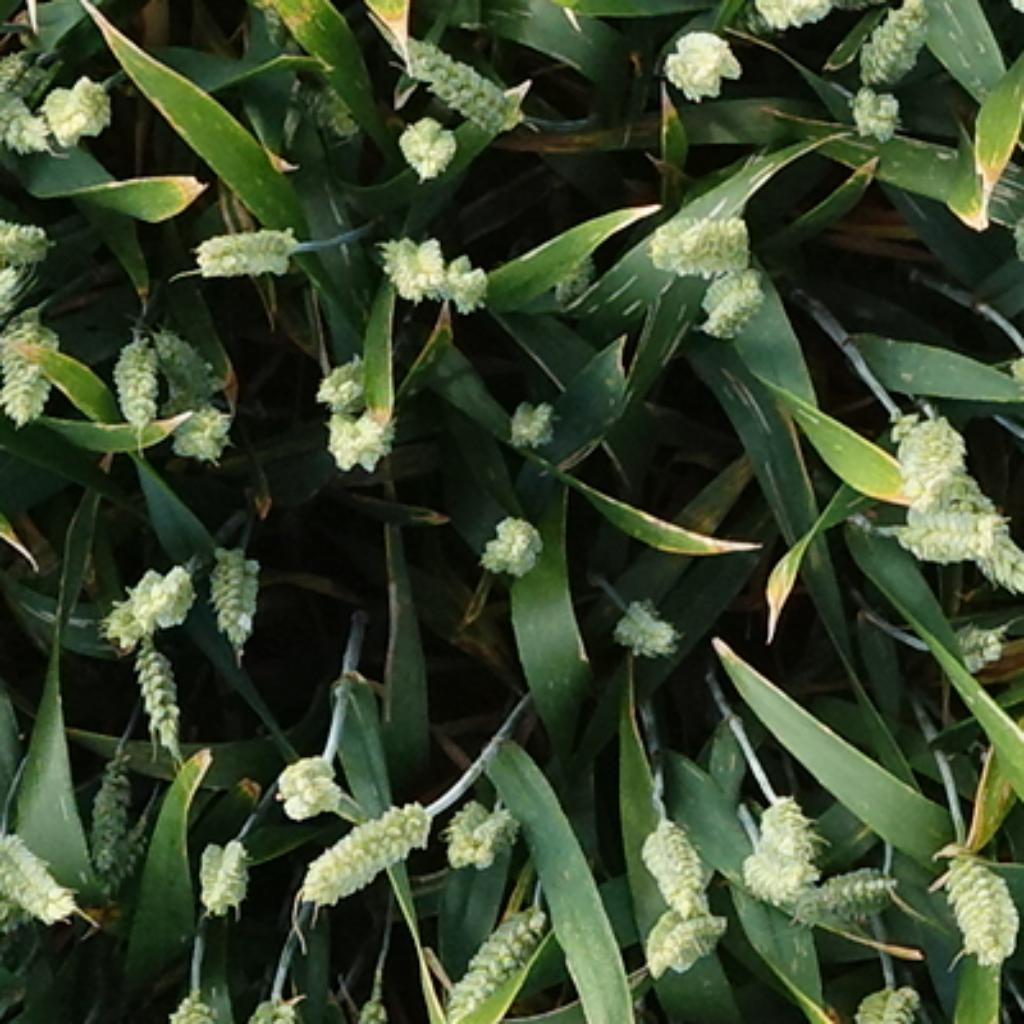0-0: (894, 449, 1024, 615), (296, 785, 437, 898), (437, 896, 560, 1024), (391, 23, 529, 135), (934, 844, 1024, 972), (81, 737, 145, 908), (645, 194, 755, 273), (102, 555, 199, 642), (0, 825, 81, 929), (130, 637, 197, 762), (873, 398, 965, 485), (186, 212, 307, 276), (791, 855, 901, 921), (637, 814, 711, 911), (757, 783, 824, 890), (207, 547, 266, 668), (276, 61, 363, 143), (890, 501, 1008, 560), (440, 785, 524, 867), (852, 0, 939, 79), (140, 322, 227, 401), (660, 23, 744, 104), (373, 222, 460, 296), (38, 75, 120, 151), (0, 318, 53, 430), (268, 747, 345, 821), (320, 404, 399, 476), (189, 837, 256, 921), (696, 256, 770, 332), (107, 325, 166, 419), (667, 901, 728, 985), (476, 506, 547, 578), (604, 591, 680, 657), (161, 391, 232, 458), (391, 115, 458, 181), (0, 88, 58, 162), (427, 250, 491, 317), (934, 616, 1006, 673), (312, 345, 376, 404), (842, 74, 903, 135), (739, 849, 796, 913), (0, 37, 61, 96), (645, 893, 683, 980), (501, 394, 558, 448), (744, 0, 832, 34), (547, 245, 593, 309), (2, 209, 53, 263), (855, 985, 919, 1024), (819, 0, 906, 2)
